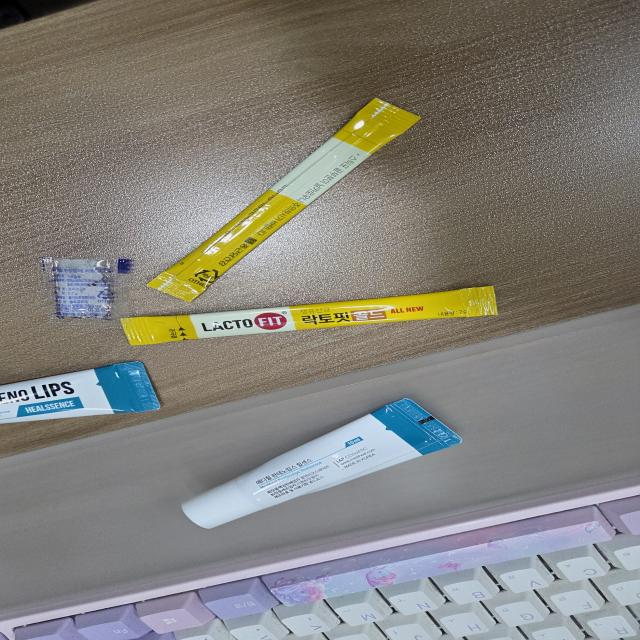lacto: (147, 95, 423, 303), (122, 284, 499, 346)
lib: (177, 397, 472, 529), (0, 359, 163, 426)
salt: (38, 247, 130, 328)
